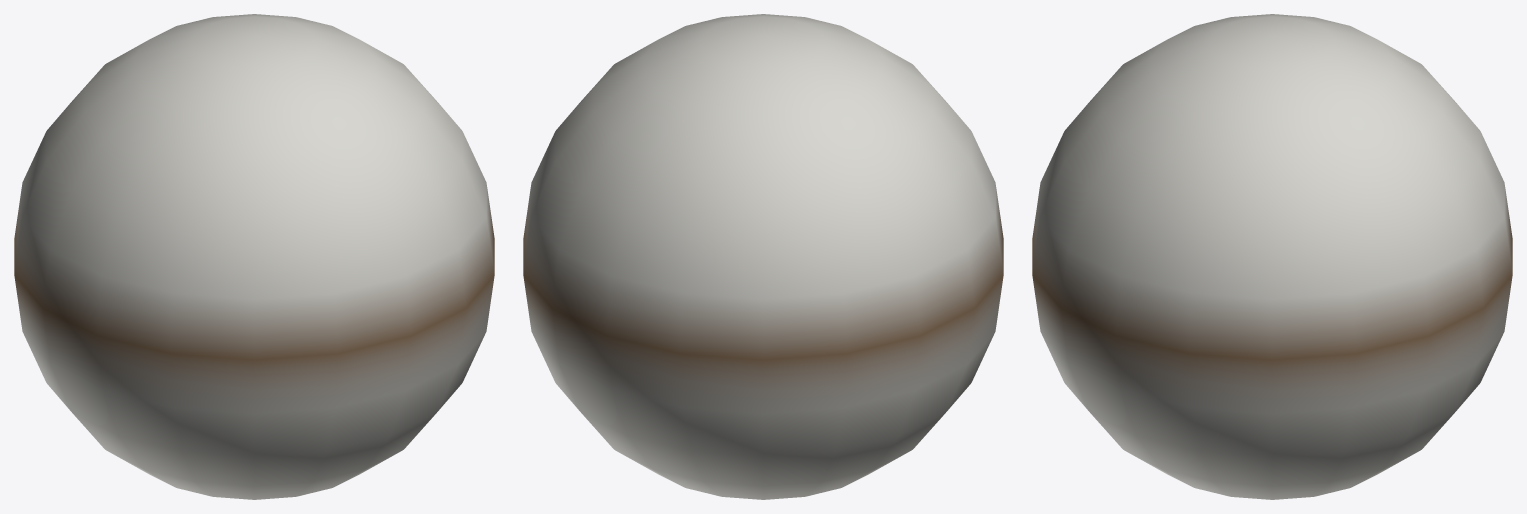
File: sliotar.glb
3 renders of one model, left to right at view 1: azimuth 30°, elevation 25°; view 2: azimuth 150°, elevation 25°; view 3: azimuth 270°, elevation 25°, orthographic.
Parts seen in each view (by area): view 1: Sliotar; view 2: Sliotar; view 3: Sliotar.
Part boxes in pixels (x1,y1,x2,y2): Sliotar: [14, 14, 494, 499]; Sliotar: [523, 14, 1003, 499]; Sliotar: [1032, 14, 1512, 499].
Size of the model in its own units: 0.073 by 0.073 by 0.0719.
